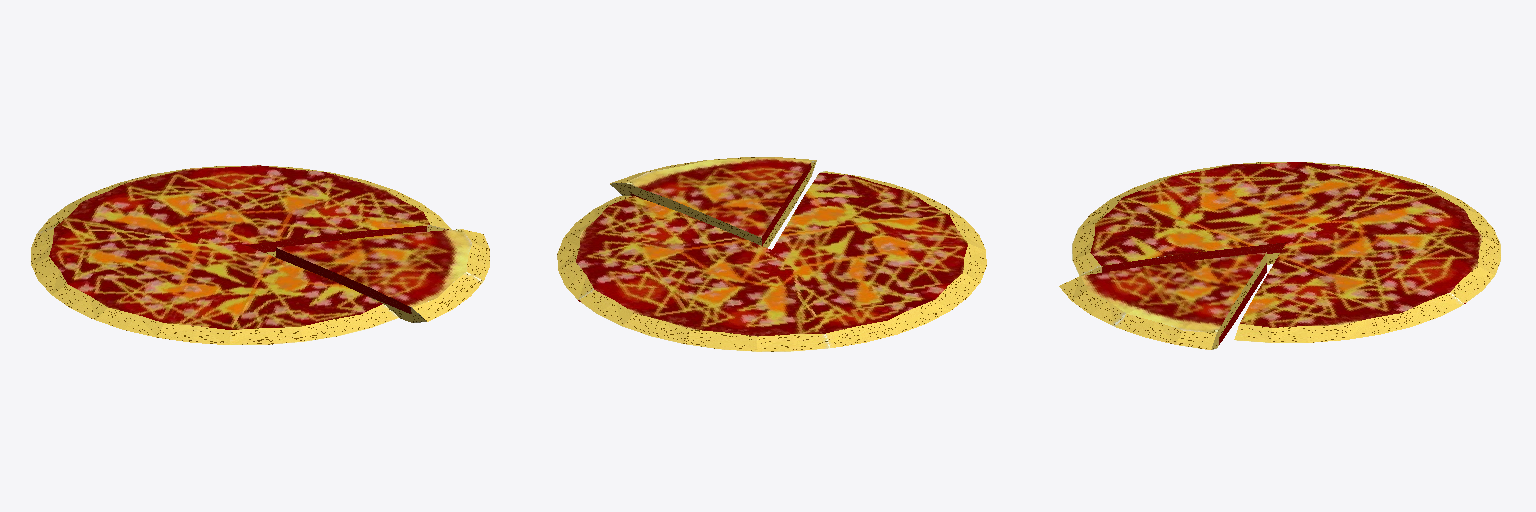
3 renders of one model, left to right at view 1: azimuth 30°, elevation 25°; view 2: azimuth 150°, elevation 25°; view 3: azimuth 270°, elevation 25°, orthographic.
Parts seen in each view (by area): view 1: Cylinder; view 2: Cylinder; view 3: Cylinder.
Part boxes in pixels (bbox=[...]): Cylinder: bbox=[31, 165, 489, 344]; Cylinder: bbox=[557, 157, 986, 351]; Cylinder: bbox=[1059, 162, 1500, 349].
Bounding box in the file's own units: 2.04 × 0.1089 × 2.03.
1 materials, 1 textured.